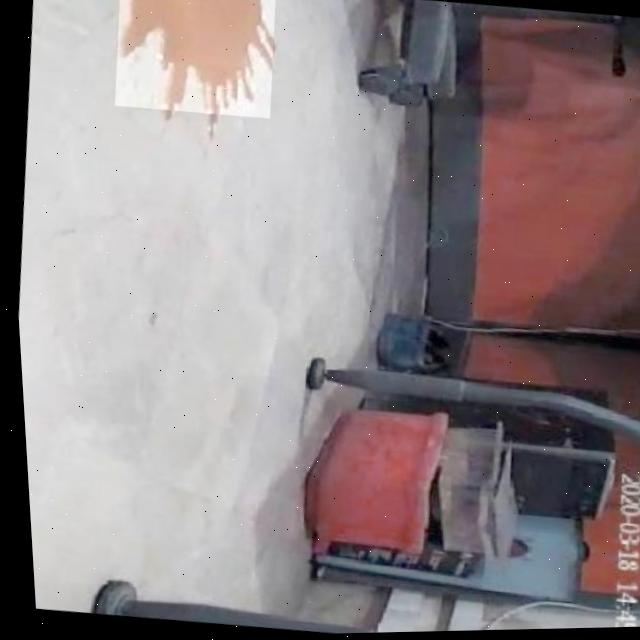spillage: (116, 0, 271, 110)
